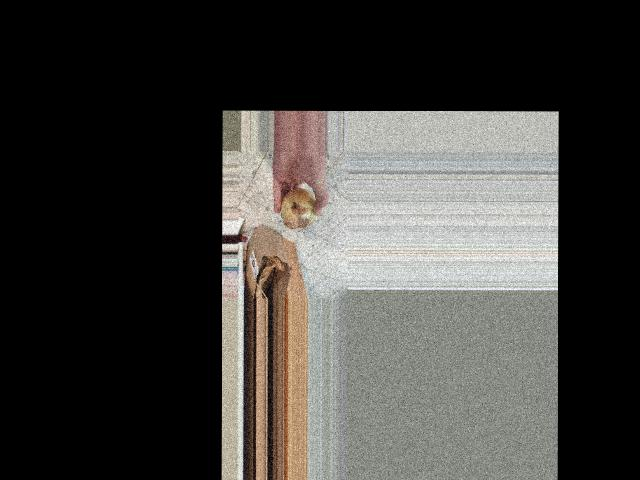onion: (280, 183, 321, 230)
